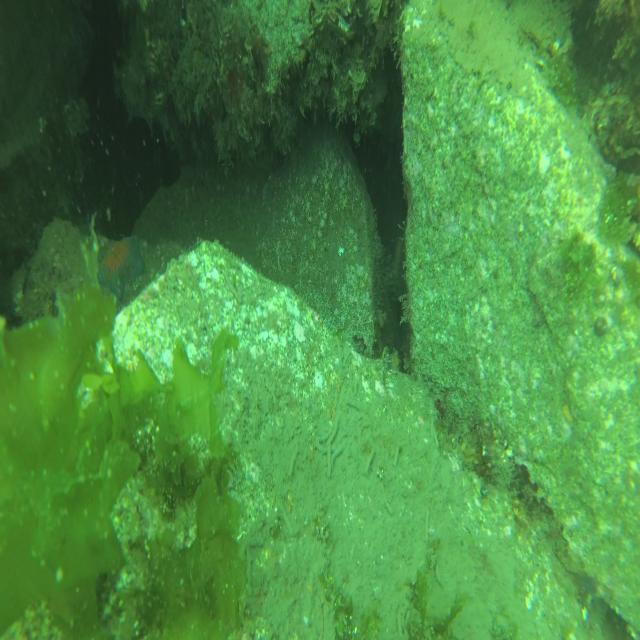starfish: (97, 232, 145, 304)
